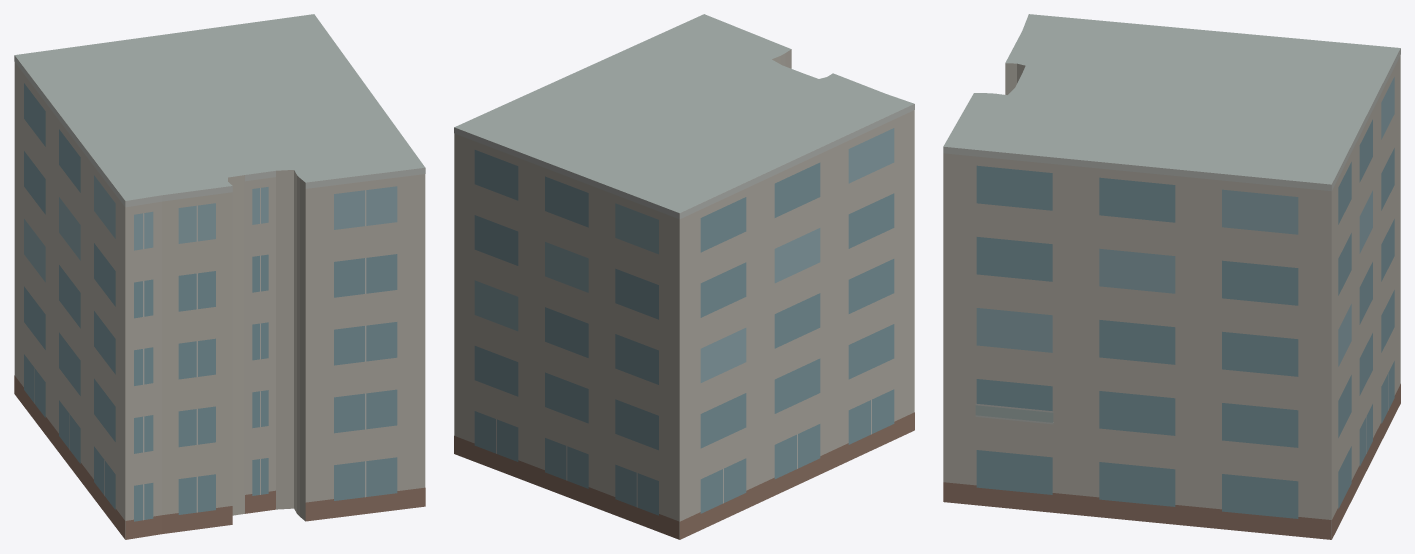
The model's file is survey-upis-32889256.glb.
3 views of the same model, side by side, from view 1: azimuth 30°, elevation 25°; view 2: azimuth 150°, elevation 25°; view 3: azimuth 270°, elevation 25° (orthographic). The views are drawn at different scales.
Visible parts, largest first — view 1: survey-upis-32889256.tmp; view 2: survey-upis-32889256.tmp; view 3: survey-upis-32889256.tmp.
Part boxes in pixels (<box>): survey-upis-32889256.tmp: <box>14,14,425,539</box>; survey-upis-32889256.tmp: <box>454,14,914,539</box>; survey-upis-32889256.tmp: <box>943,14,1400,539</box>.
Size of the model in its own units: 13.5 by 13.1 by 15.3.
